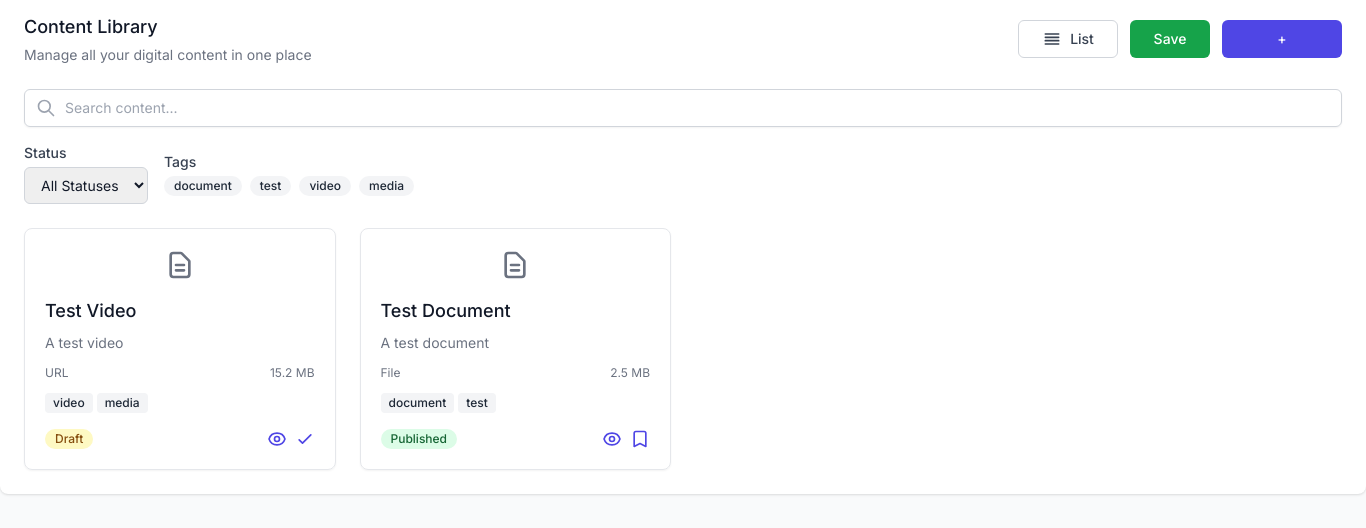
Test: ContentLibrary › should render empty state when no content matches filters
Expected: the heading "Content Library" is shown, [24,16,158,37]
# Search for content that doesn't exist
Type "Nonexistent Content" into the field with placeholder "Search content..." at [683, 108], box [24,89,1342,127]
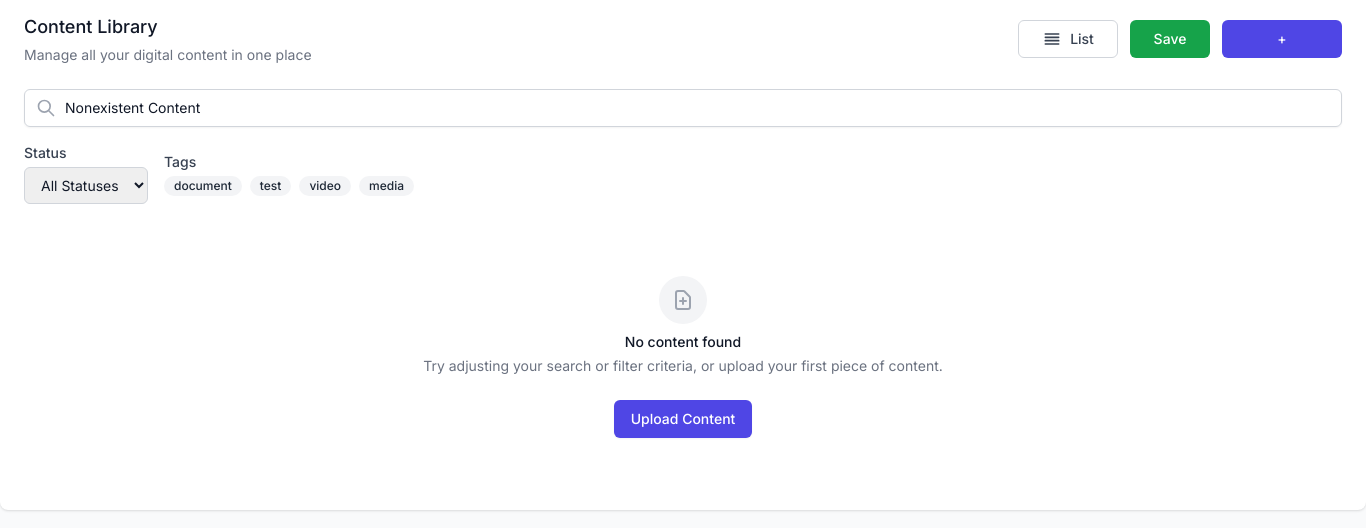
Now the heading "No content found" is shown, box [625,333,741,350]
